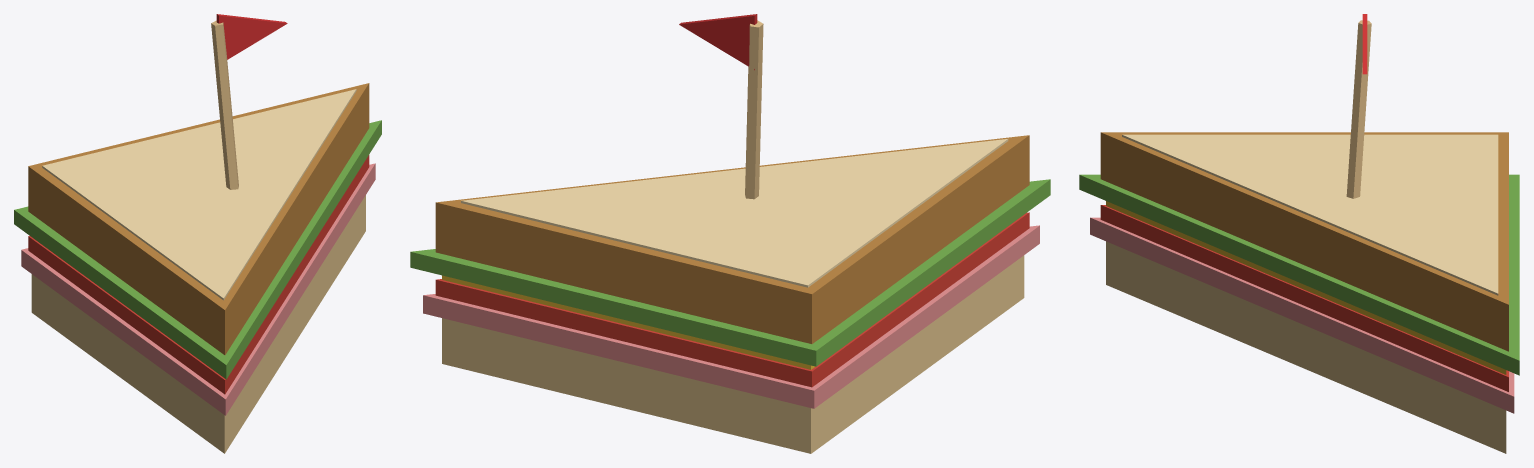
Rendered from Food_Sandwich.obj.
The picture shows the model from 3 angles, left to right: view 1: azimuth 30°, elevation 25°; view 2: azimuth 150°, elevation 25°; view 3: azimuth 270°, elevation 25°; orthographic projection. The views are drawn at different scales.
Bounding box in the file's own units: 1.87 × 1.55 × 1.87.
